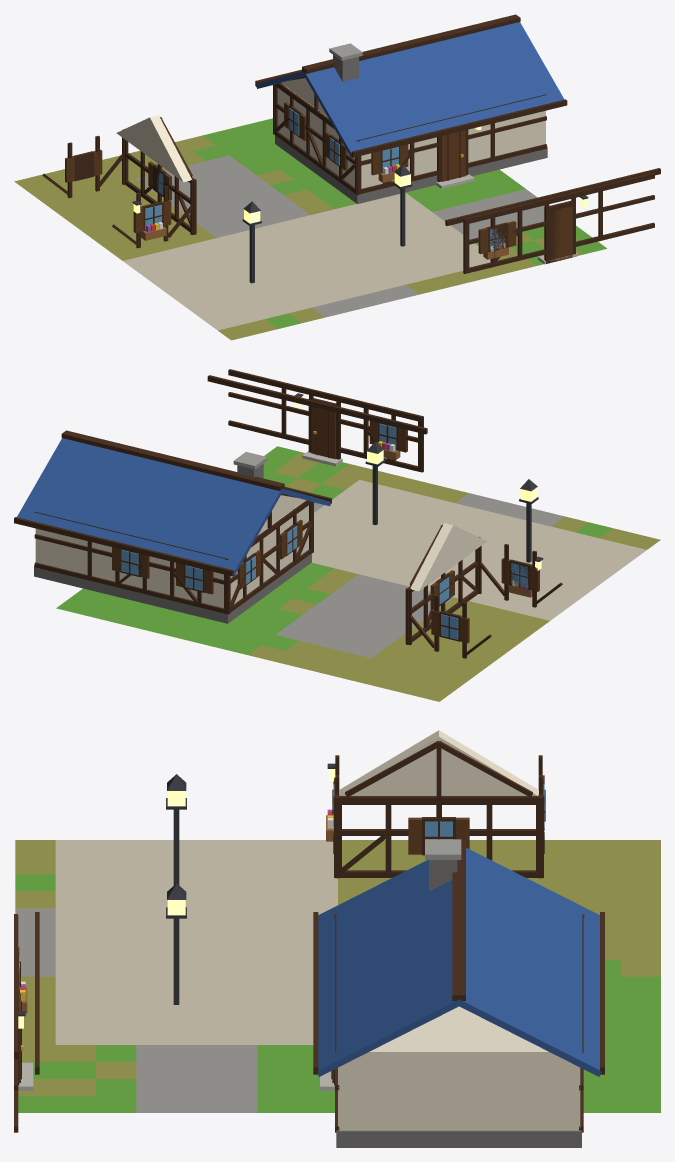
The model's file is chunk_10_5.glb.
3 renders of one model, top to bottom at view 1: azimuth 30°, elevation 25°; view 2: azimuth 150°, elevation 25°; view 3: azimuth 270°, elevation 25°, orthographic. The views are drawn at different scales.
Parts seen in each view (by area): view 1: chunk_10_5; view 2: chunk_10_5; view 3: chunk_10_5.
Part boxes in pixels (x1,y1,x2,y2): chunk_10_5: (14, 14, 660, 340); chunk_10_5: (14, 369, 660, 701); chunk_10_5: (14, 730, 660, 1147).
Size of the model in its own units: 19.01 by 4.94 by 16.03.
